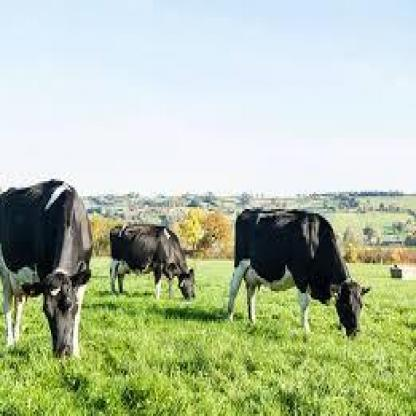cow: (228, 208, 373, 339), (1, 179, 95, 362), (109, 223, 197, 301)
